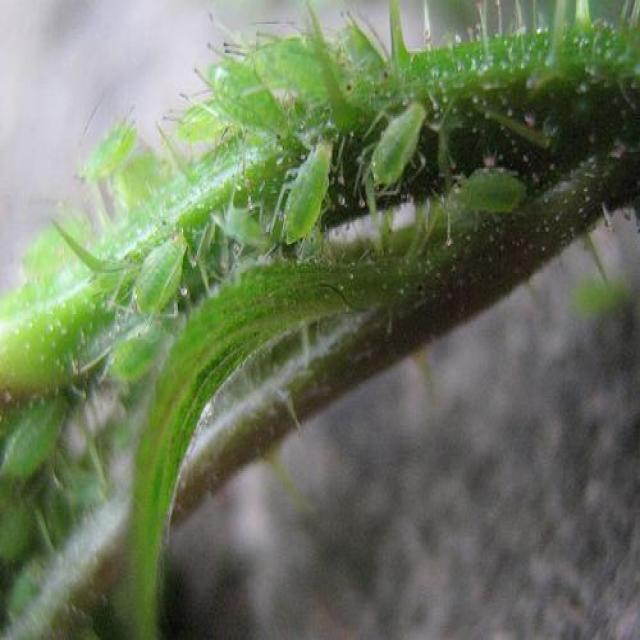aphid: (8, 22, 543, 580)
